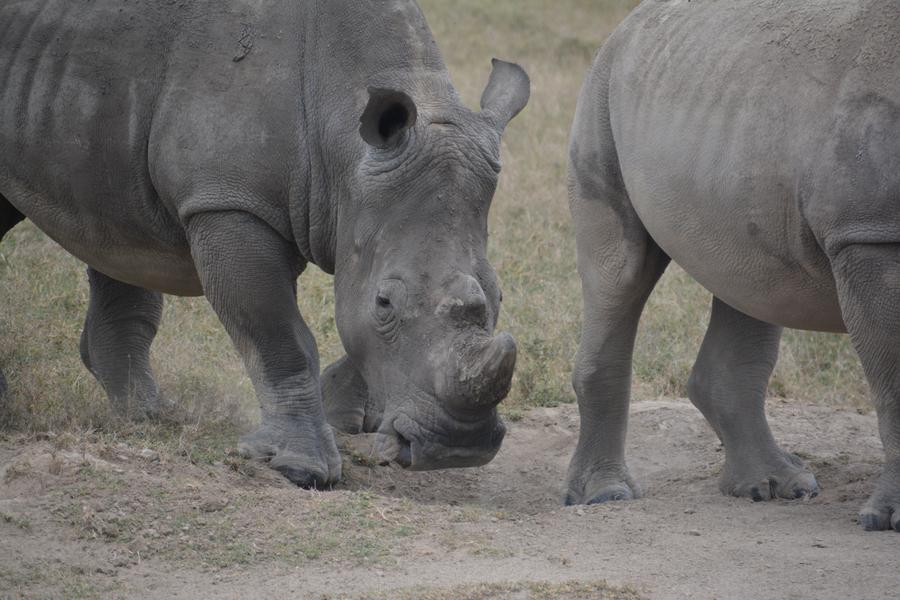rhino: (5, 6, 505, 468), (546, 12, 897, 510)
